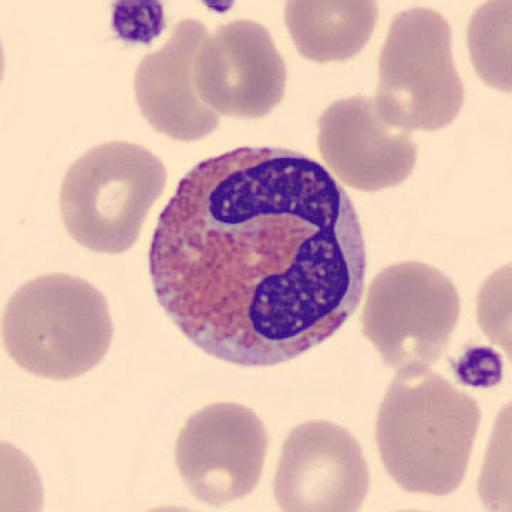Platelet: (104, 0, 169, 49)
RBC: (373, 363, 483, 500), (57, 138, 169, 258), (0, 270, 117, 384), (358, 256, 463, 374), (132, 14, 222, 144), (376, 2, 465, 133), (172, 399, 270, 509), (316, 92, 420, 193), (193, 16, 289, 121), (272, 416, 372, 512), (281, 0, 380, 65), (466, 0, 512, 96), (475, 259, 512, 377), (476, 393, 511, 512), (1, 438, 45, 512), (125, 503, 226, 512)
WBC: (144, 152, 368, 370)
